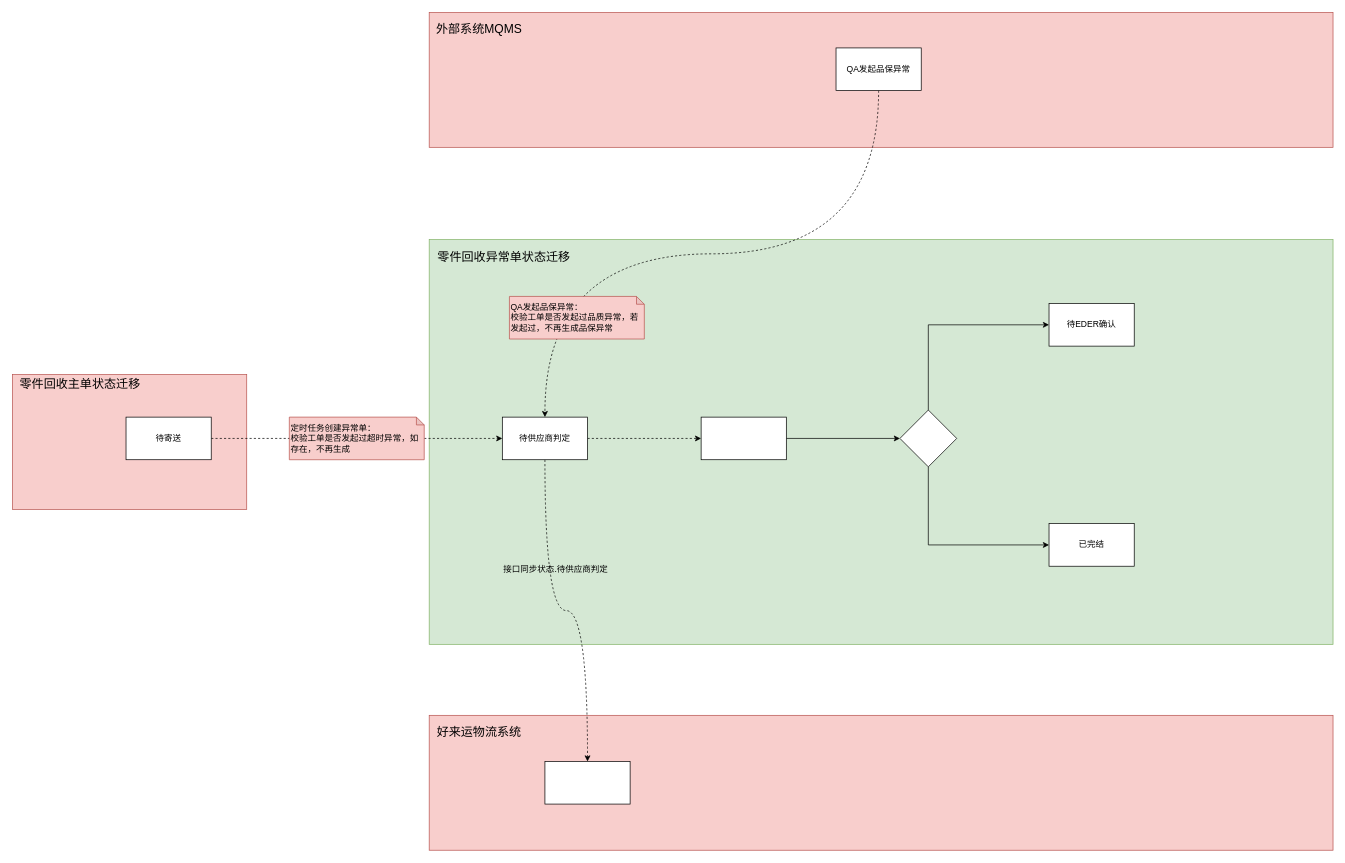
This 1345x863 diagram has some shape labels left out. Each missing label, with the centre of its shape:
供应商判定: pixel 587 782
店端是否申诉: pixel 928 438
待店端判定: pixel 743 438
